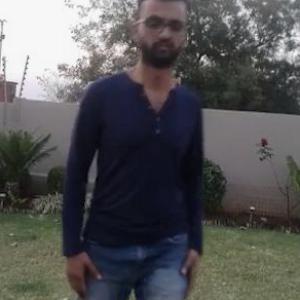follow: (68, 0, 194, 299)
